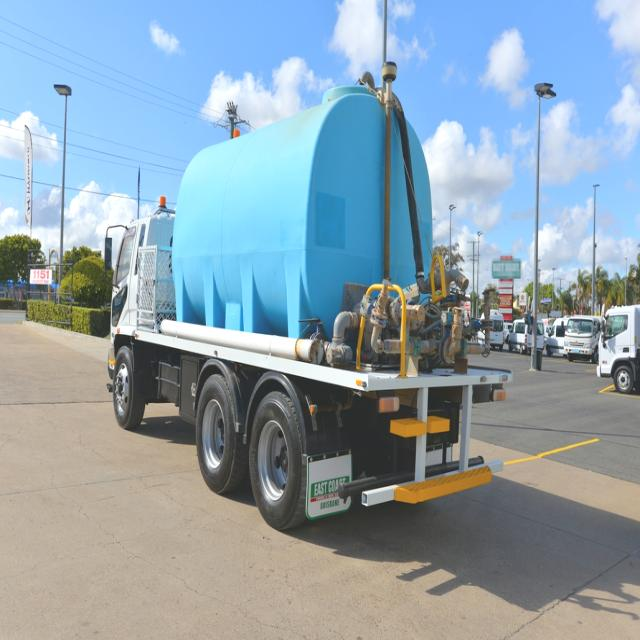truck: (104, 62, 514, 526)
